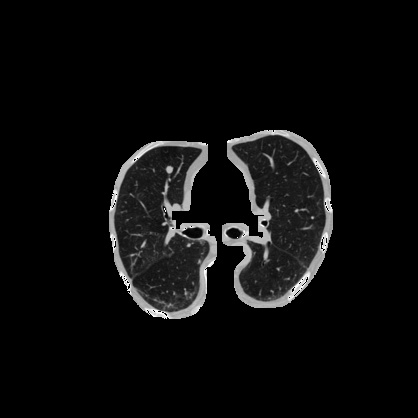PN: (165, 165, 173, 173)
